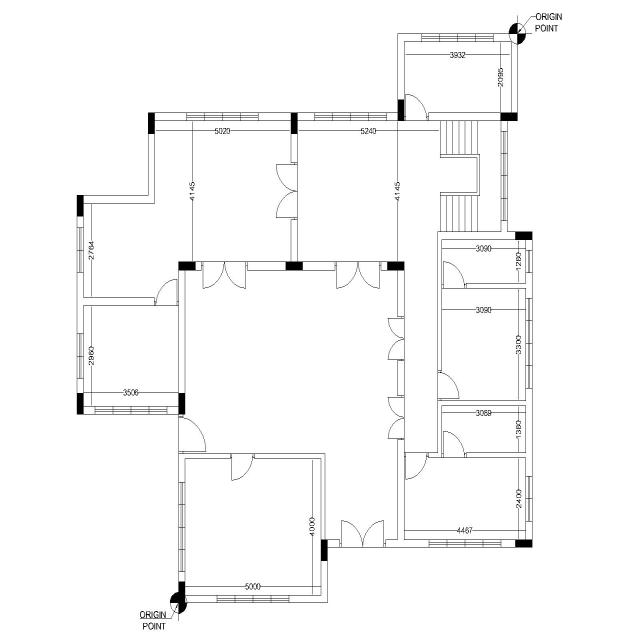Column: (76, 393, 84, 414), (290, 113, 298, 134), (178, 261, 196, 270), (321, 539, 328, 561), (148, 113, 155, 134), (179, 581, 185, 603), (179, 393, 185, 415), (77, 195, 83, 217), (516, 232, 532, 240), (286, 262, 302, 270), (388, 262, 404, 270), (398, 100, 404, 121), (515, 540, 532, 547), (501, 113, 517, 120)
Door: (177, 415, 208, 453), (154, 277, 178, 308), (436, 371, 461, 400), (442, 260, 466, 290), (230, 452, 254, 482), (404, 94, 428, 123), (442, 430, 466, 459), (404, 451, 428, 480)
Double-Door: (335, 259, 381, 292), (274, 163, 300, 220), (340, 518, 386, 549), (202, 260, 247, 290), (386, 396, 406, 439), (386, 317, 406, 360)
Staircase: (439, 121, 501, 232)
Window: (185, 110, 260, 122), (313, 111, 388, 123), (499, 130, 508, 222), (524, 297, 533, 389), (94, 405, 168, 416), (421, 32, 494, 43), (178, 480, 186, 573), (429, 538, 502, 548), (217, 594, 290, 604), (524, 475, 534, 523), (76, 332, 84, 380), (76, 227, 84, 274), (525, 249, 533, 274)
